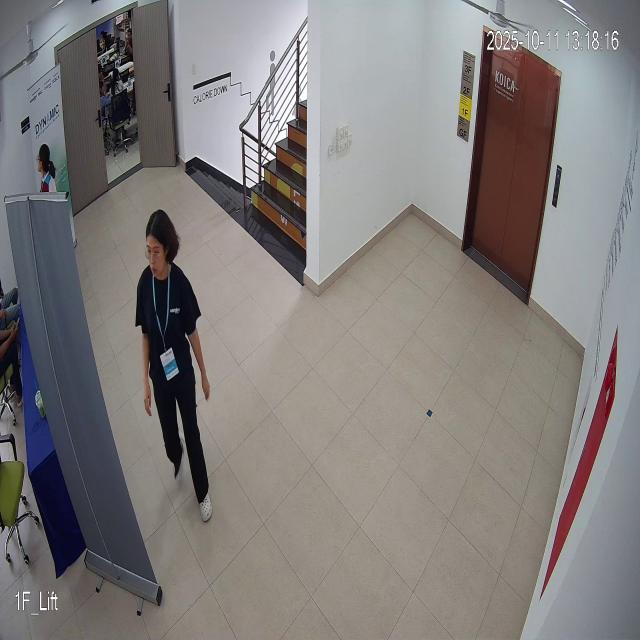face: (142, 207, 181, 282)
